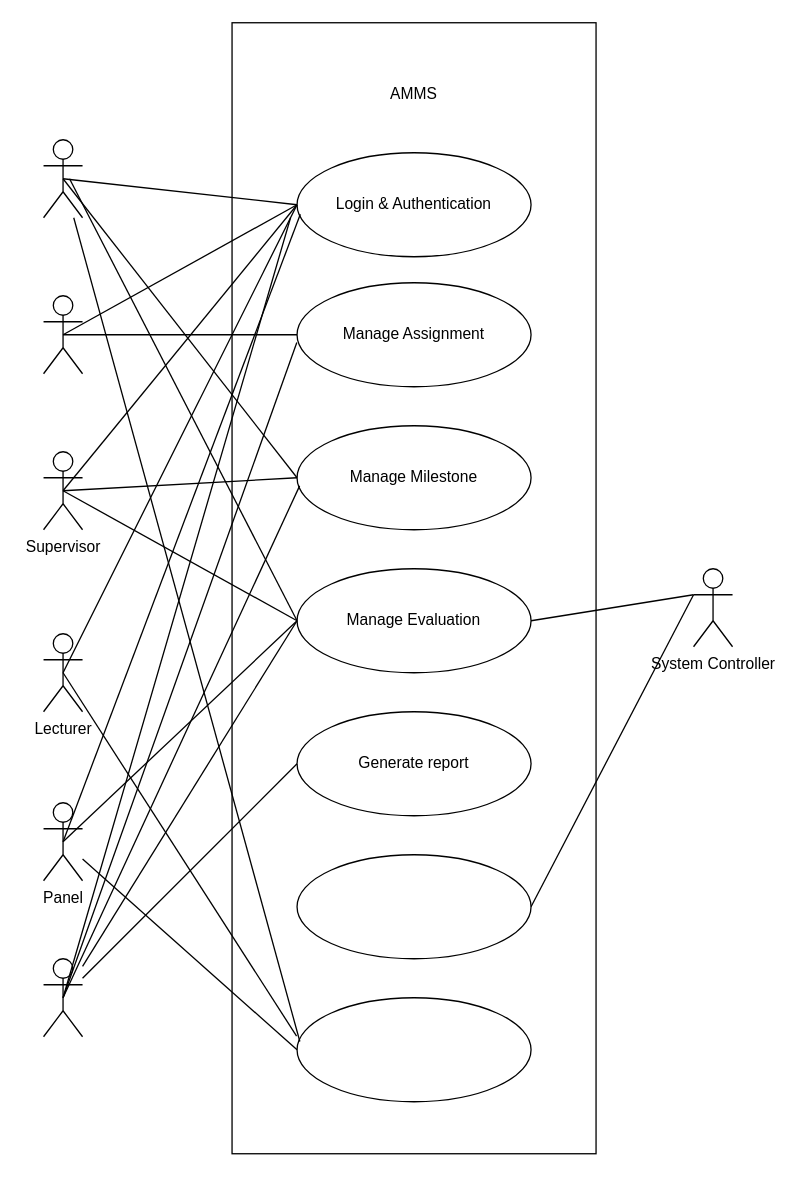
Image size: 797x1177. Some labels were removed from this diagram. Here are the shapes that lost their labels. From the top down, the box of each, then its label:
(42, 138, 83, 218): Student
(42, 294, 83, 374): Admin
(296, 853, 531, 959): Manage alert and notification
(42, 957, 83, 1037): Coordinator
(296, 996, 531, 1102): Manage title and registration
